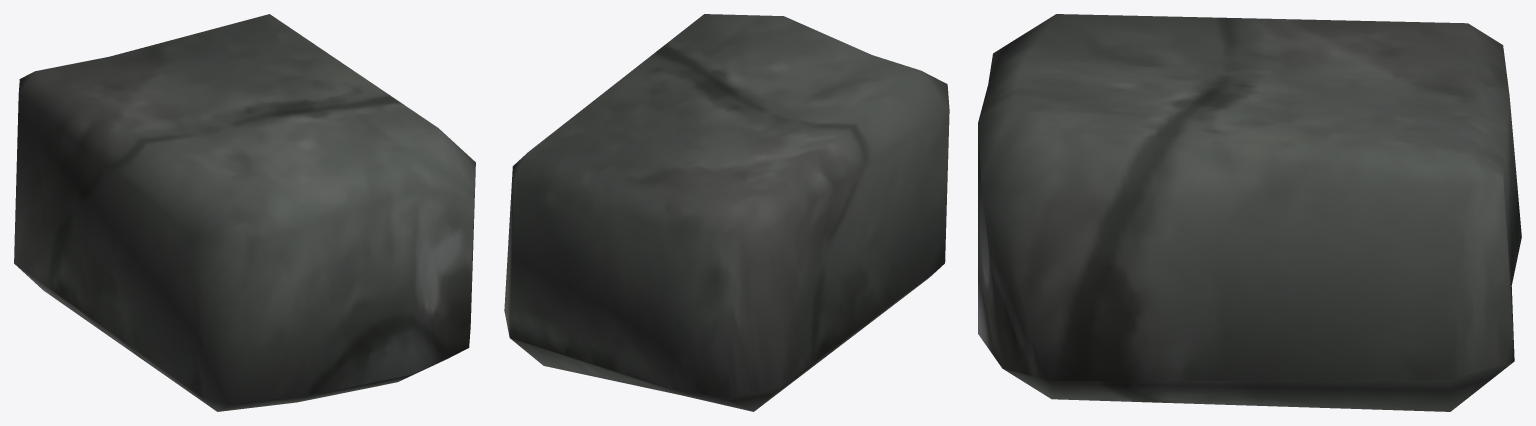
The model's file is sewer_brick003.FBX.
3 renders of one model, left to right at view 1: azimuth 30°, elevation 25°; view 2: azimuth 150°, elevation 25°; view 3: azimuth 270°, elevation 25°, orthographic. The views are drawn at different scales.
Visible parts, largest first — view 1: sewer_brick003; view 2: sewer_brick003; view 3: sewer_brick003.
Part boxes in pixels (box(x1,y1,x2,y2)): sewer_brick003: box(14, 14, 475, 411); sewer_brick003: box(504, 14, 949, 411); sewer_brick003: box(978, 14, 1521, 411).
Bounding box in the file's own units: 121 × 95.91 × 169.
